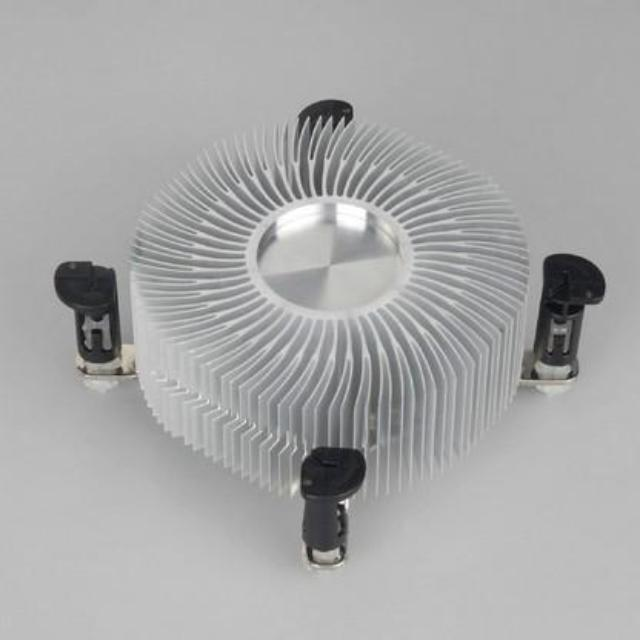CPU_Fan: (57, 100, 606, 571)
